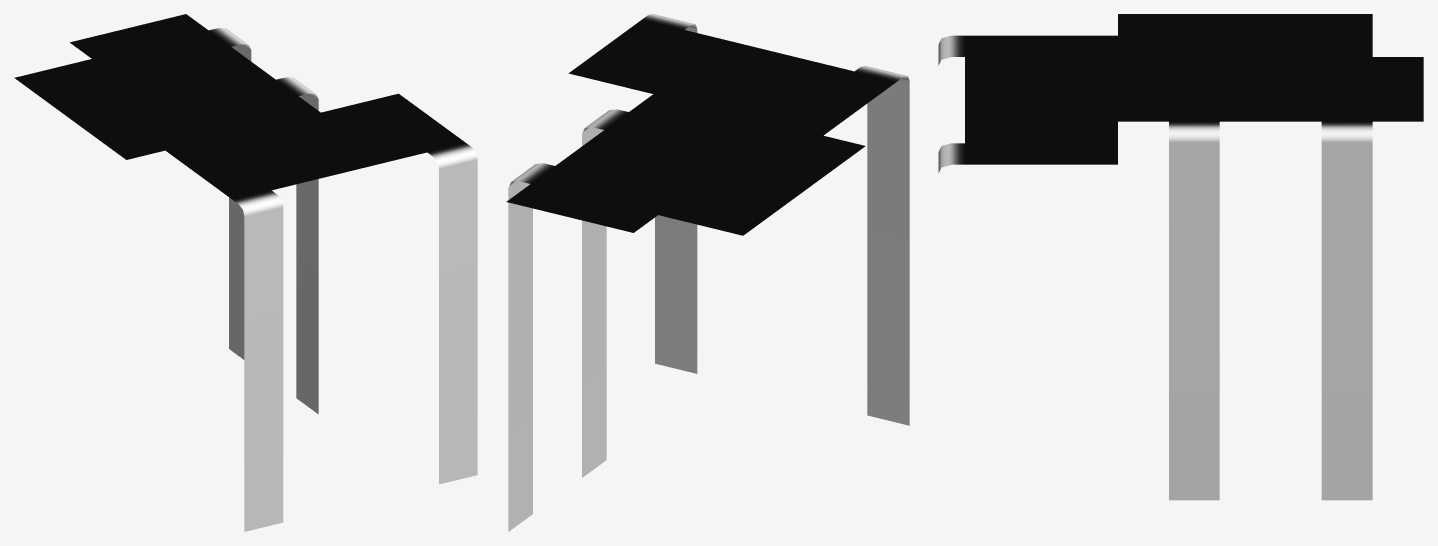
File: torchRoom1Water_Mesh.fbx
The picture shows the model from 3 angles, left to right: view 1: azimuth 30°, elevation 25°; view 2: azimuth 150°, elevation 25°; view 3: azimuth 270°, elevation 25°; orthographic projection. The views are drawn at different scales.
Visible parts, largest first — view 1: torchRoom1; view 2: torchRoom1; view 3: torchRoom1.
Boxes of the visible parts, <box> form: torchRoom1: <box>14,14,477,531</box>; torchRoom1: <box>506,14,909,531</box>; torchRoom1: <box>938,14,1423,500</box>.
Size of the model in its own units: 7 by 7.95 by 9.52.
1 material, 1 textured.
